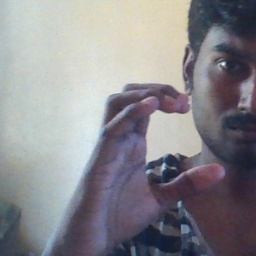C: (107, 78, 226, 206)
